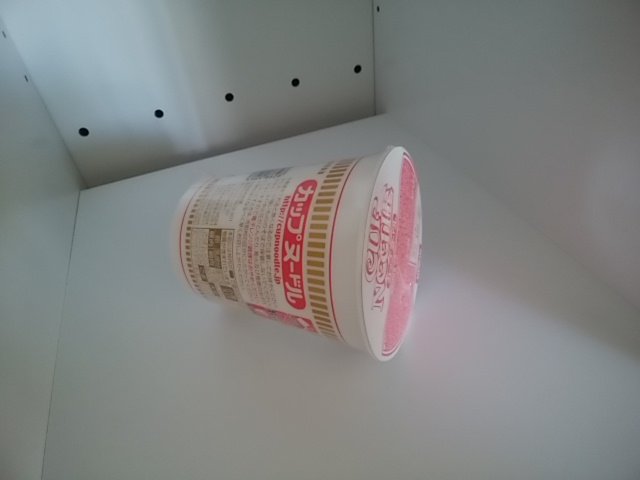cup-ramen: (169, 144, 452, 369)
